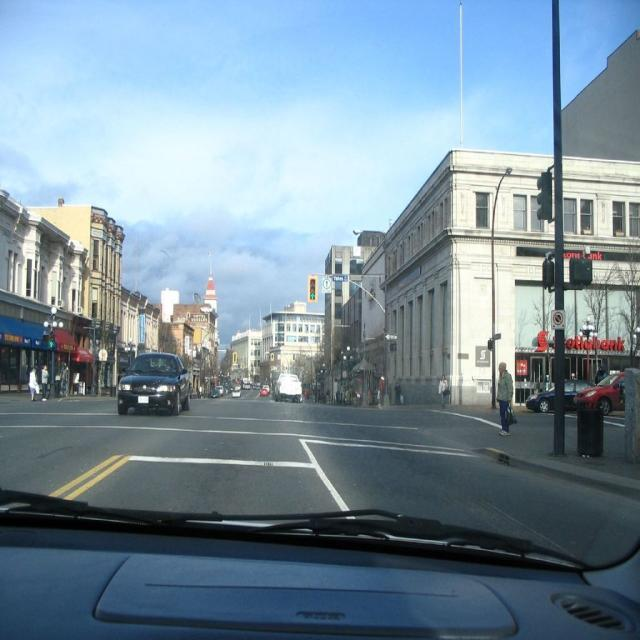off traffic light: (536, 172, 552, 220)
traffic light: (310, 279, 315, 300)
